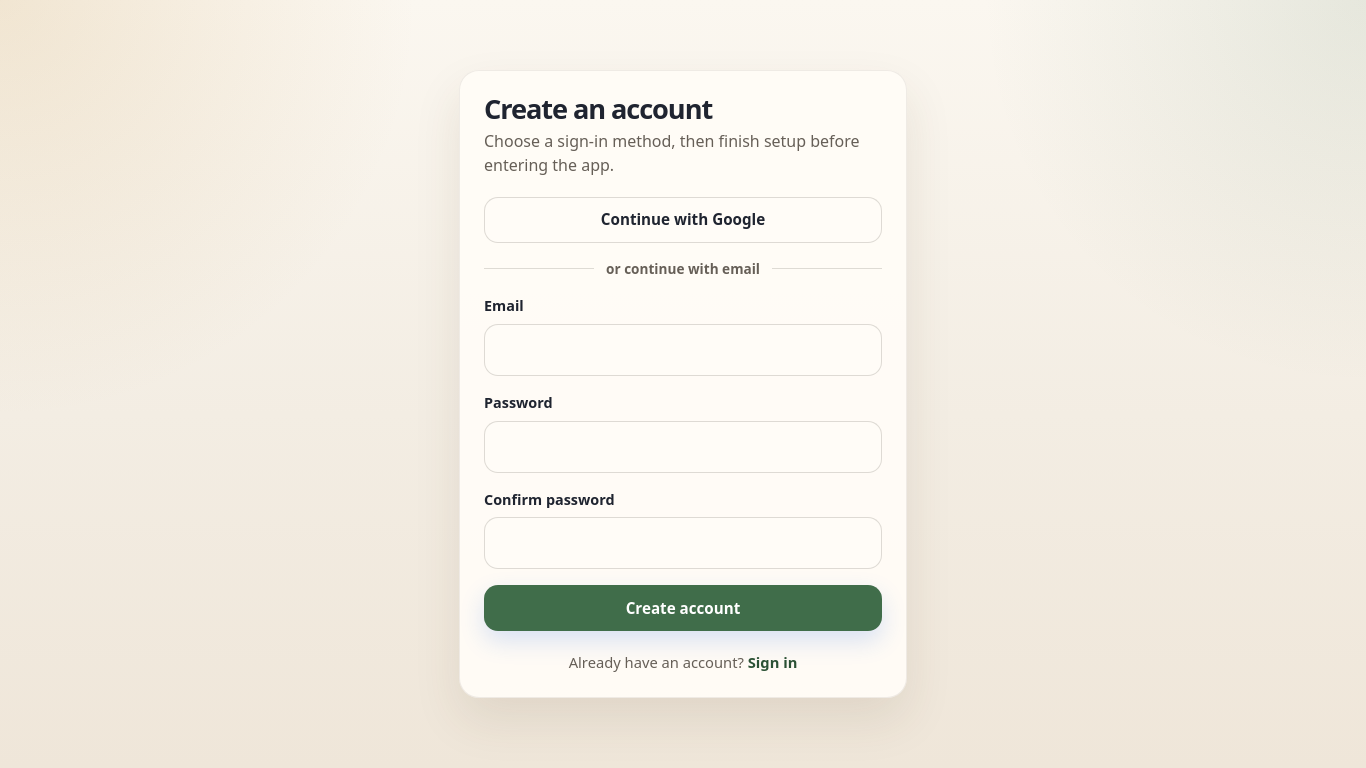
Test: RegisterPage › shows provider errors
Click the button "Continue with Google": (683, 220) [484,197,882,243]
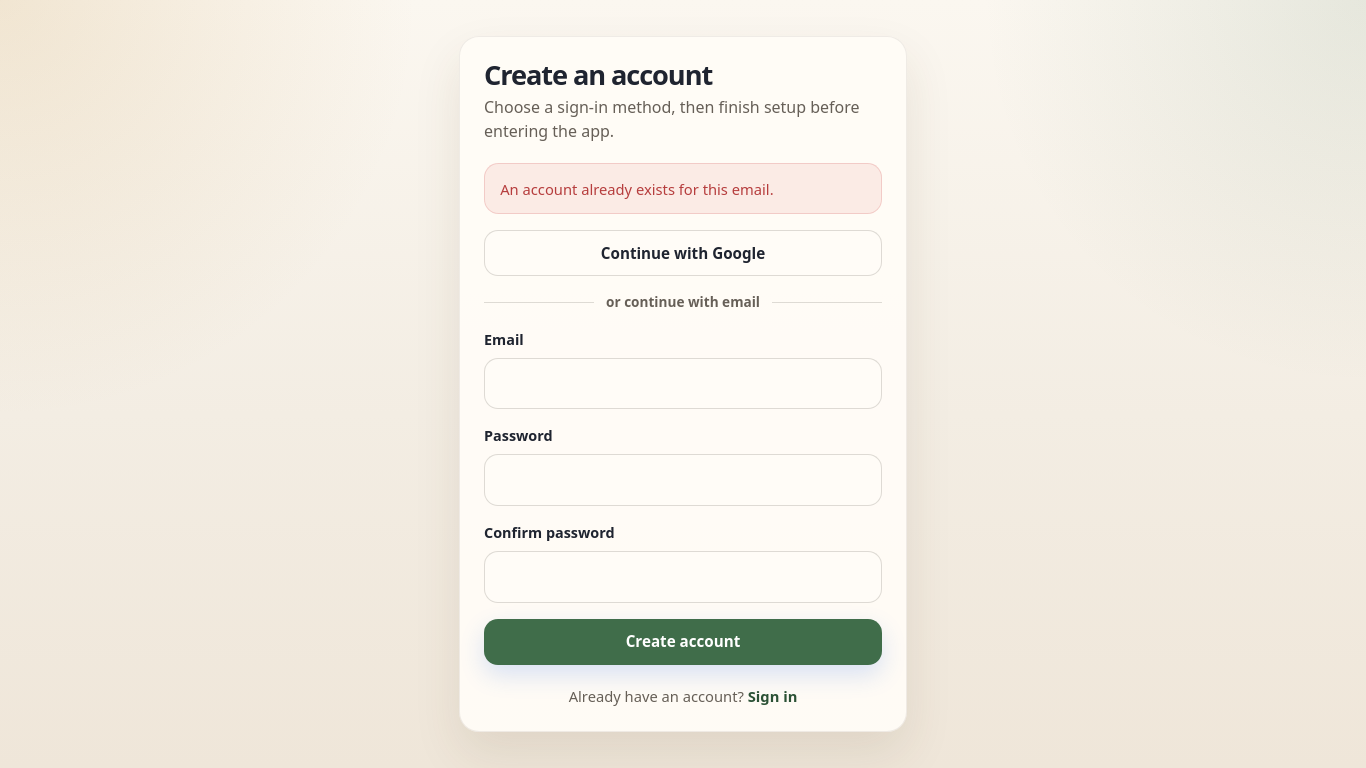
Check: the text "An account already exists for this email." is shown, box [484,163,882,214]
